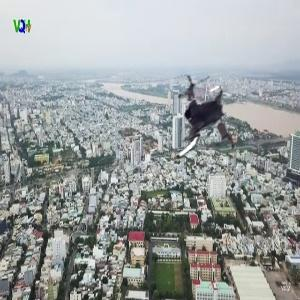drone: (144, 71, 248, 175)
